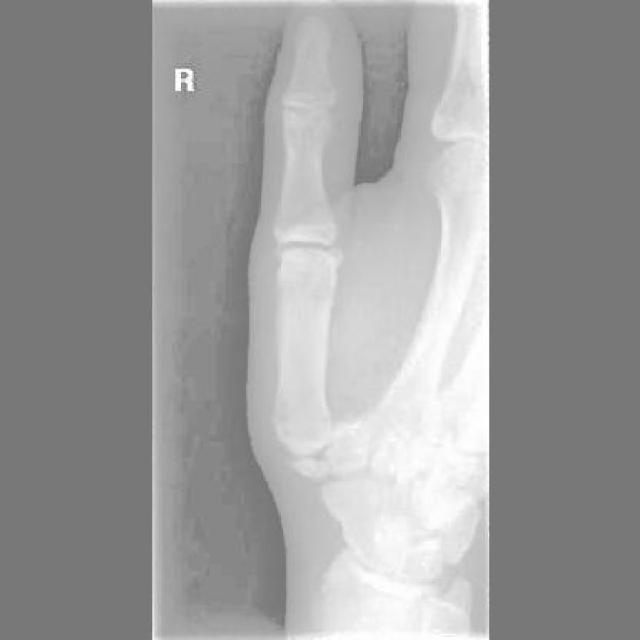Fracture: (280, 417, 362, 480)
